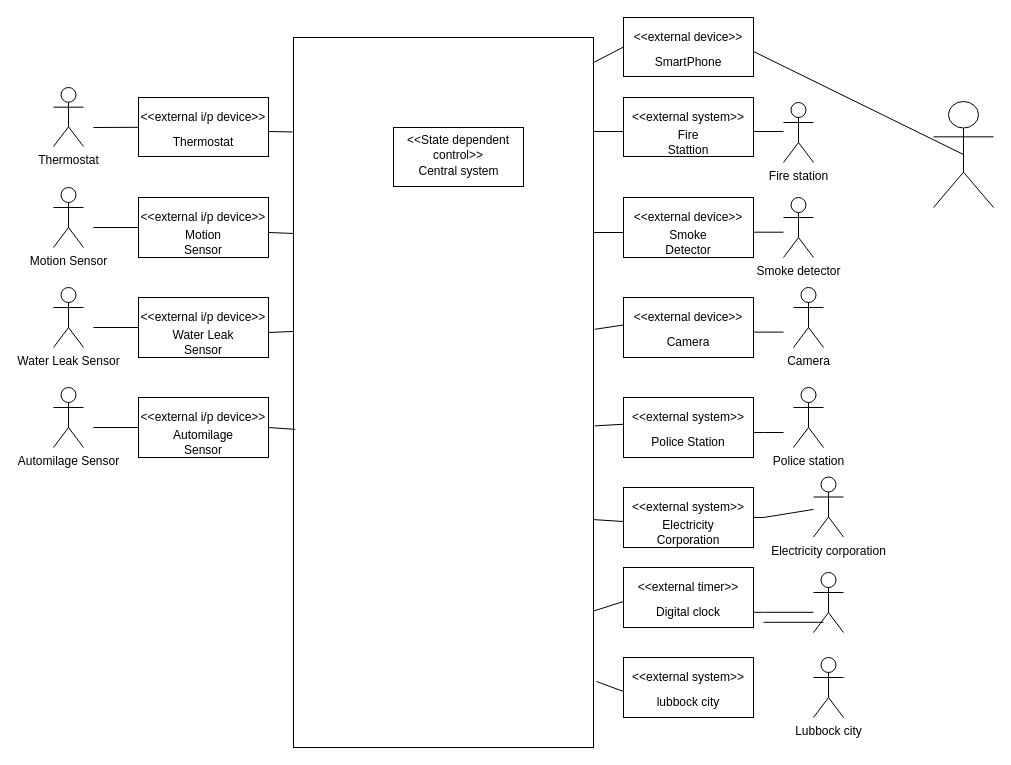
This 1011x765 diagram has some shape labels left out. The centre of each missing label's shape, as x and y in pixels:
Actor: point (963, 154)
Timer: point (828, 602)
